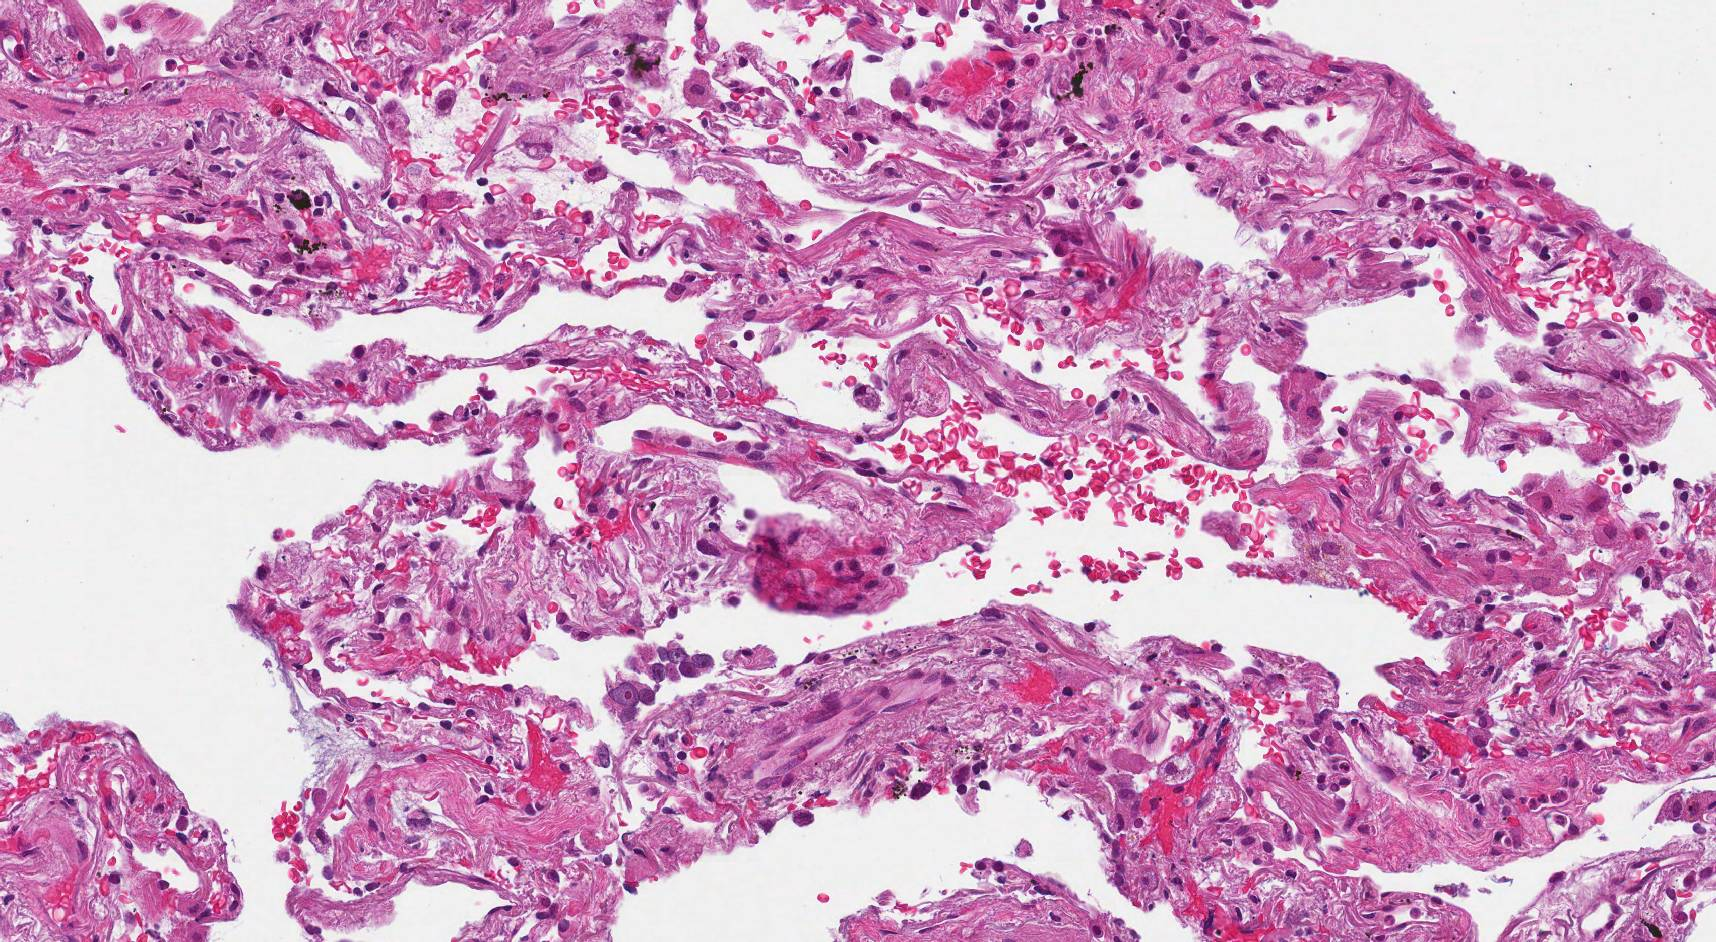stas: (601, 643, 713, 722)
